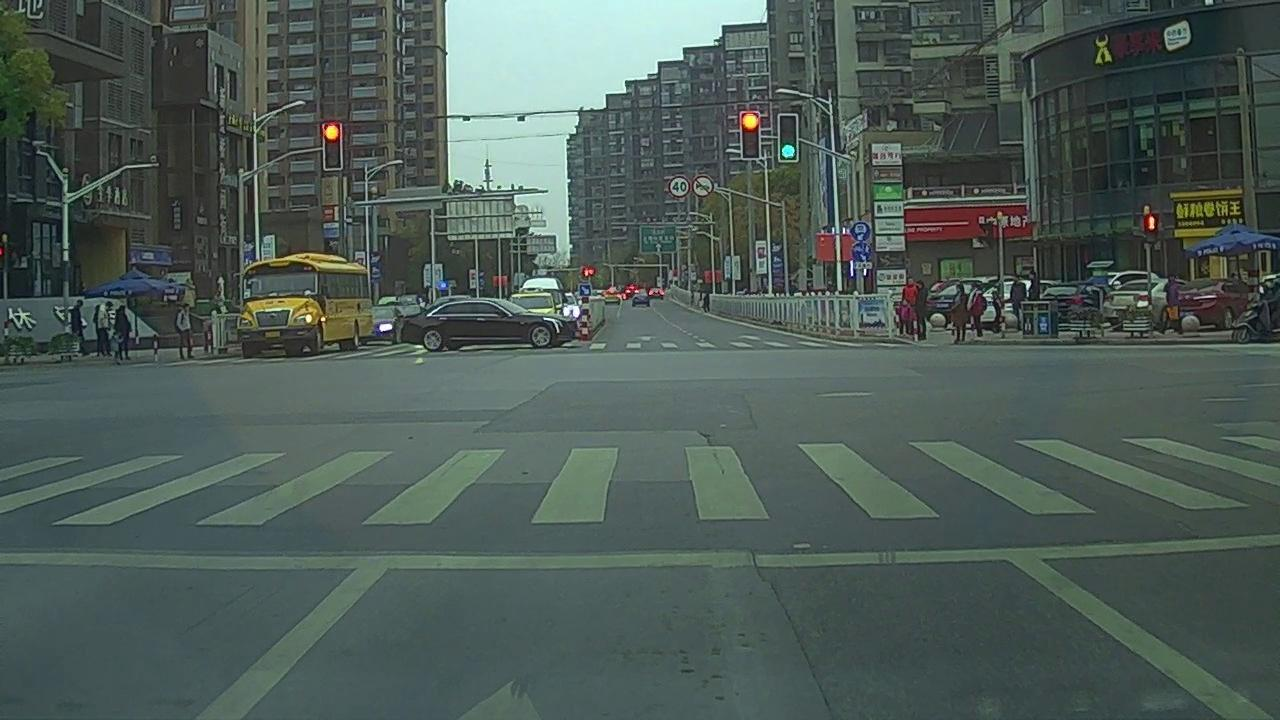traffic_light: (777, 113, 801, 164), (321, 123, 345, 169), (740, 111, 761, 157)
